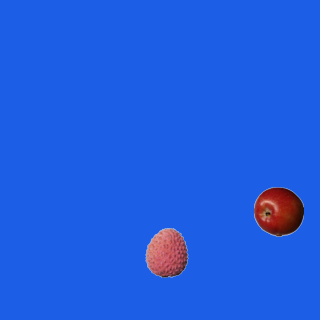Apple Braeburn: (253, 186, 303, 236)
Lychee: (141, 227, 191, 277)
